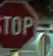Stop: (2, 0, 38, 52)
